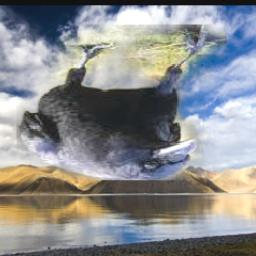Crow: (17, 25, 227, 180)
